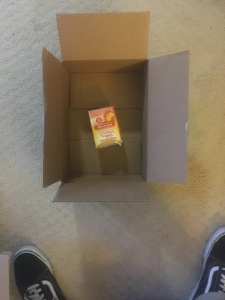innerbox: (63, 64, 148, 182)
outerbox: (40, 13, 186, 201)
product: (88, 105, 124, 151)
